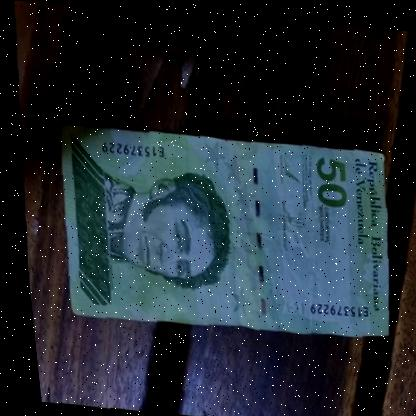fifty-front-vef: (45, 116, 398, 348)
